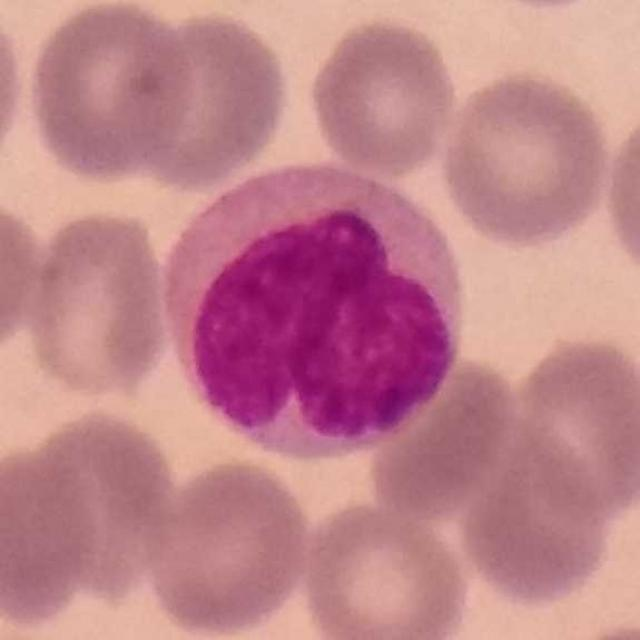Monocyte: (154, 150, 472, 467)
RBC: (6, 405, 182, 606), (435, 66, 617, 252), (116, 4, 295, 192), (21, 0, 199, 186), (139, 454, 316, 640), (453, 414, 620, 611), (20, 204, 175, 404), (358, 350, 524, 518), (304, 12, 461, 182), (502, 330, 640, 521), (296, 496, 473, 640), (0, 440, 105, 629), (0, 189, 48, 363), (597, 96, 640, 289), (0, 1, 30, 184)
